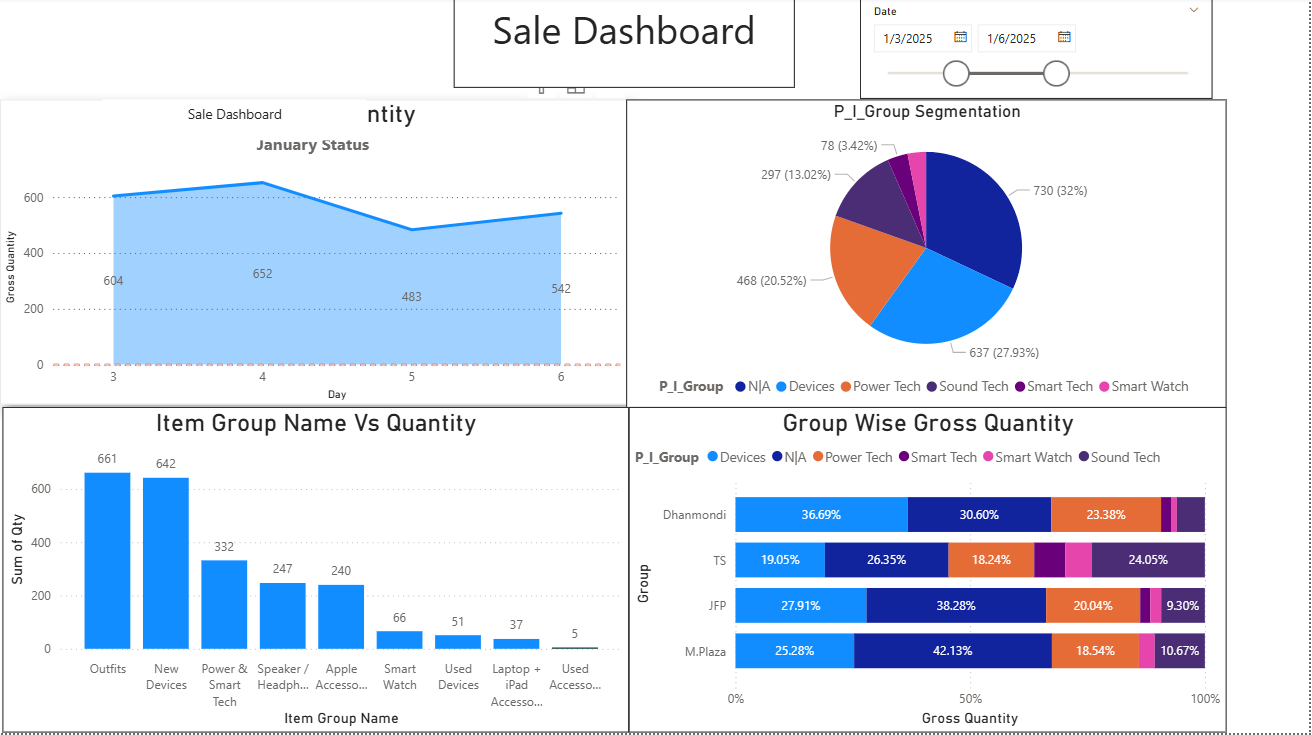

This screenshot's page, from the dashboard's own definition file:
{"tool":"powerbi","page":{"name":"Page 1","canvas":[1280,720],"ordinal":0},"visuals":[{"type":"stackedAreaChart","title":"Date Wise Quantity","fields":{"Category":["Sheet1.Date.Variation.Date Hierarchy.Day"],"Y":["Sum(Sheet1.Qty)"]},"box":[0,100,612.5,298.8],"z":0},{"type":"pieChart","title":" P_I_Group Segmentation","fields":{"Category":["Sheet1.P_I_Group"],"Y":["Sum(Sheet1.Qty)"]},"box":[612.5,100,587.5,301.2],"z":1000},{"type":"columnChart","title":"Item Group Name Vs Quantity","fields":{"Category":["Sheet1.Item Group Name"],"Y":["Sum(Sheet1.Qty)"]},"box":[2.5,401.2,612.5,318.8],"z":2000},{"type":"hundredPercentStackedBarChart","title":"Group Wise Gross Quantity","fields":{"Category":["Sheet1.Group"],"Y":["Sum(Sheet1.Qty)"],"Series":["Sheet1.P_I_Group"]},"box":[615,401.2,585,318.8],"z":3000},{"type":"textbox","box":[100,100,258.8,40],"z":4000},{"type":"textbox","box":[443.8,0,333.8,88.8],"z":5000},{"type":"slicer","fields":{"Values":["Sheet1.Date"]},"box":[841.2,1.2,345,98.8],"z":6000}]}

Visuals, with their boxes in screenshot pixels (x1, y1, x2, y2), scaled from the page's 1280x720 canvas onto the 1312x735 screenshot:
"Date Wise Quantity" stackedAreaChart: pyautogui.locateOnScreen(0, 102, 628, 407)
" P_I_Group Segmentation" pieChart: pyautogui.locateOnScreen(628, 102, 1230, 410)
"Item Group Name Vs Quantity" columnChart: pyautogui.locateOnScreen(3, 410, 630, 734)
"Group Wise Gross Quantity" hundredPercentStackedBarChart: pyautogui.locateOnScreen(630, 410, 1230, 734)
textbox: pyautogui.locateOnScreen(102, 102, 368, 143)
textbox: pyautogui.locateOnScreen(455, 0, 797, 91)
slicer - Sheet1.Date: pyautogui.locateOnScreen(862, 1, 1216, 102)
